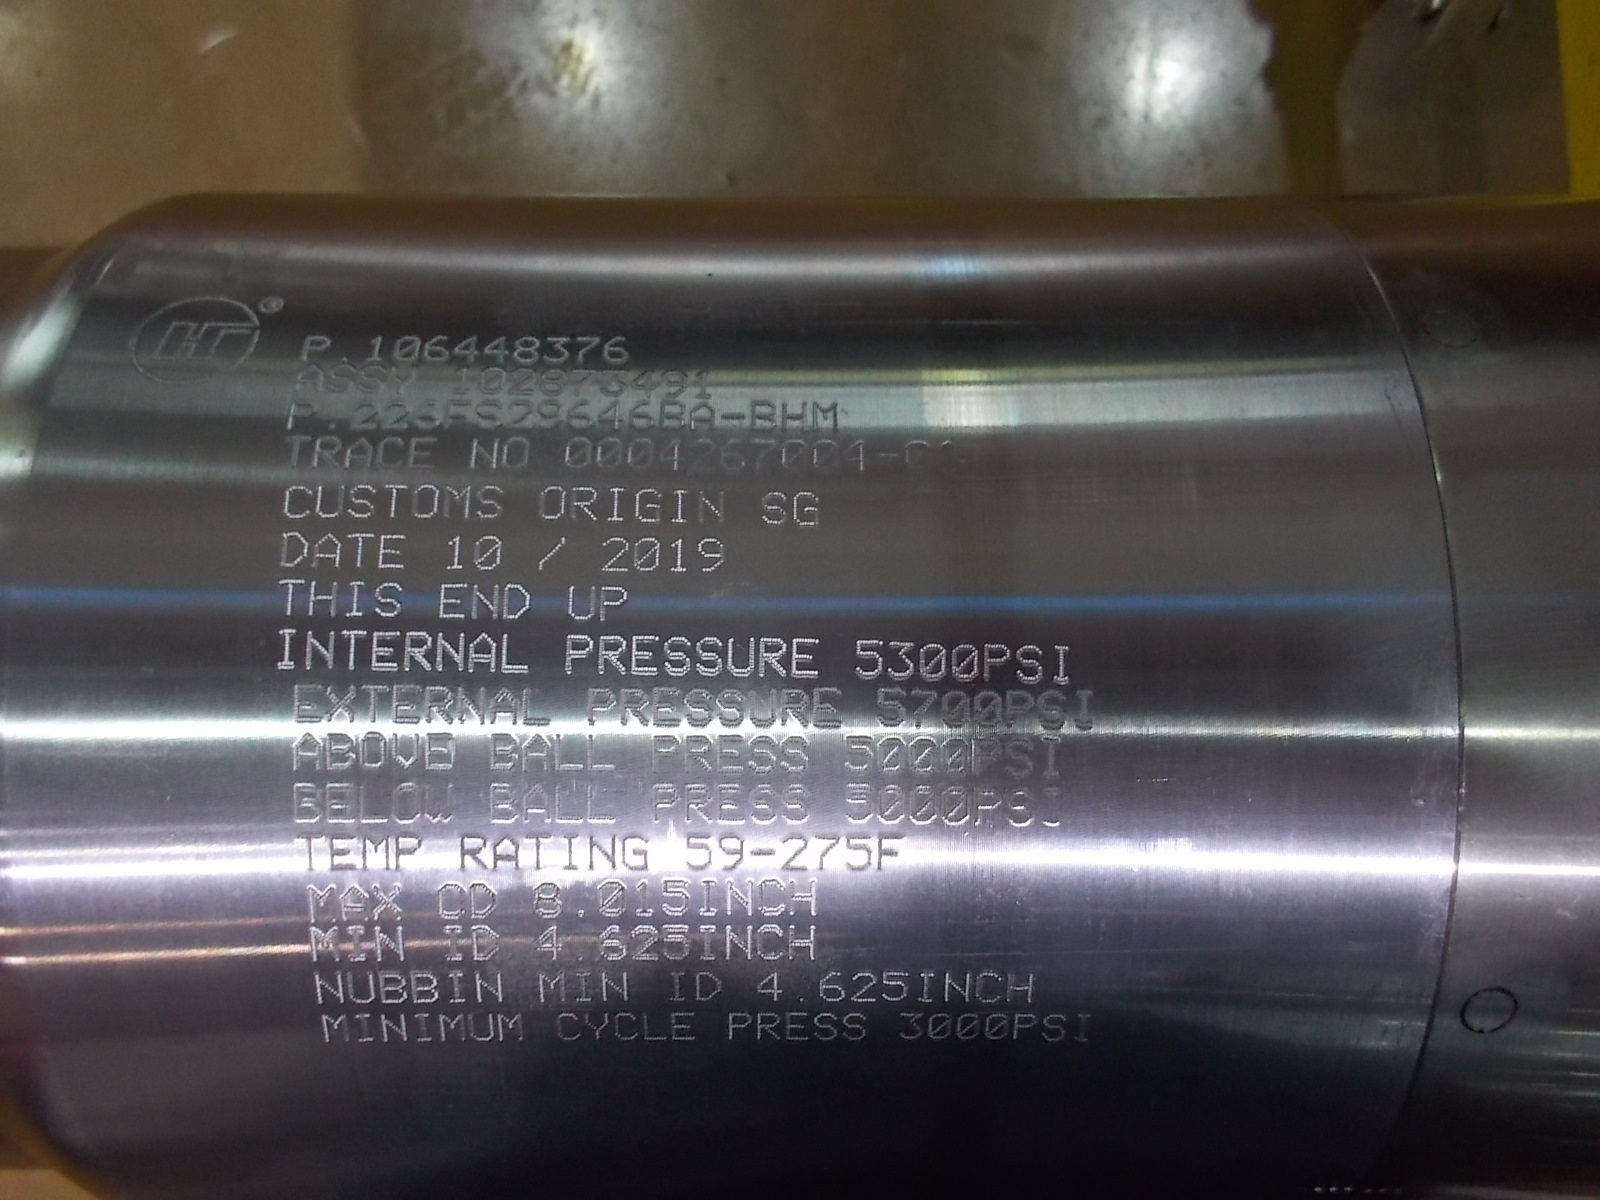character: (268, 575, 307, 626), (1003, 782, 1039, 834), (432, 577, 471, 626), (871, 683, 908, 734), (776, 832, 816, 879), (876, 827, 912, 877), (370, 921, 412, 966), (532, 532, 572, 577), (300, 626, 336, 676), (582, 683, 619, 732), (287, 776, 324, 826), (271, 529, 311, 574), (937, 782, 973, 832), (307, 575, 341, 626), (1068, 688, 1105, 736), (285, 727, 324, 771), (811, 684, 845, 735), (583, 780, 621, 826), (323, 679, 359, 726), (840, 829, 876, 877), (355, 780, 391, 828), (369, 580, 409, 621), (690, 485, 729, 528), (561, 630, 595, 679), (648, 731, 682, 780), (422, 730, 460, 774), (693, 534, 729, 580), (585, 729, 621, 774), (433, 920, 470, 966), (790, 487, 825, 533), (597, 532, 632, 579), (777, 782, 813, 828), (786, 919, 821, 966), (368, 626, 402, 674), (595, 632, 629, 679), (1044, 640, 1078, 688), (779, 730, 813, 778), (745, 730, 779, 778), (596, 966, 637, 1005), (597, 584, 635, 626), (312, 480, 349, 524), (304, 881, 340, 925), (425, 679, 457, 729), (682, 731, 714, 780), (422, 780, 457, 826), (629, 632, 663, 678), (1003, 687, 1037, 734), (970, 732, 1004, 779), (523, 827, 557, 874), (593, 920, 627, 967), (525, 881, 566, 920), (1012, 640, 1044, 688), (712, 783, 748, 826), (585, 832, 621, 875), (650, 684, 685, 729), (808, 829, 843, 874), (486, 731, 522, 775), (268, 626, 300, 676), (566, 484, 600, 529), (391, 679, 425, 725), (683, 829, 717, 875), (459, 829, 493, 875), (532, 921, 566, 967), (658, 874, 692, 919), (757, 487, 790, 533), (290, 681, 323, 727), (660, 919, 693, 966), (338, 919, 370, 966), (312, 1008, 351, 1047), (973, 782, 1003, 832), (714, 730, 745, 780), (595, 879, 632, 919), (307, 919, 338, 969), (387, 731, 423, 773), (472, 482, 508, 524), (471, 532, 506, 575), (496, 632, 532, 674), (290, 829, 325, 872), (323, 730, 358, 773), (470, 923, 505, 966), (336, 626, 368, 674), (402, 626, 433, 674), (693, 632, 724, 679), (619, 684, 650, 732), (391, 780, 422, 828), (343, 529, 377, 574), (501, 579, 535, 623), (1004, 735, 1038, 779), (678, 784, 712, 828), (325, 828, 359, 872), (486, 780, 520, 824), (357, 730, 391, 774), (722, 876, 756, 920), (790, 634, 823, 679), (627, 920, 660, 966), (1004, 968, 1043, 1006), (433, 880, 470, 920), (632, 532, 664, 579), (489, 684, 520, 731), (621, 832, 656, 874), (432, 1007, 467, 1049), (472, 966, 506, 1008), (471, 579, 501, 626), (908, 686, 939, 734), (907, 782, 937, 829), (648, 780, 678, 828), (564, 582, 597, 626), (433, 630, 466, 674), (724, 635, 757, 679), (757, 635, 790, 679), (979, 640, 1012, 684), (843, 782, 876, 826), (360, 829, 393, 874), (359, 679, 391, 725), (714, 684, 746, 730), (779, 686, 810, 731), (1037, 688, 1068, 734), (910, 734, 941, 779), (324, 780, 355, 826), (552, 780, 583, 826), (294, 328, 333, 364), (306, 969, 345, 1006), (370, 880, 406, 920), (438, 396, 472, 437), (687, 434, 721, 475), (876, 734, 910, 775), (786, 875, 820, 916), (520, 684, 551, 731), (1039, 735, 1070, 782), (692, 874, 722, 920), (746, 435, 779, 478), (438, 532, 471, 575), (915, 642, 947, 684), (876, 782, 908, 824), (753, 923, 786, 966), (630, 483, 661, 527), (311, 529, 343, 574), (378, 529, 409, 574), (457, 684, 489, 729), (746, 686, 777, 730), (853, 635, 884, 679), (939, 686, 970, 730), (393, 829, 425, 874), (520, 780, 552, 824), (664, 532, 693, 580), (664, 632, 693, 679), (666, 1008, 704, 1045), (559, 435, 593, 475), (535, 484, 566, 529), (842, 735, 876, 775), (340, 880, 370, 925), (375, 966, 409, 1006), (535, 966, 569, 1006), (809, 435, 842, 476), (409, 480, 442, 522), (552, 732, 585, 774), (494, 1008, 527, 1050), (886, 638, 915, 684), (941, 732, 970, 779), (947, 642, 979, 684), (970, 687, 1002, 730), (407, 434, 442, 471), (282, 480, 312, 524), (349, 480, 379, 524), (442, 480, 472, 524), (557, 827, 585, 875), (661, 483, 690, 528), (717, 829, 746, 875), (693, 919, 722, 964), (470, 879, 501, 920), (722, 923, 753, 964), (779, 435, 809, 478), (600, 484, 630, 527), (493, 832, 523, 875), (522, 732, 552, 775), (341, 575, 369, 621), (278, 434, 312, 471), (842, 432, 871, 476), (467, 630, 496, 674), (685, 684, 714, 729), (750, 782, 779, 826), (378, 482, 409, 522), (756, 876, 787, 916), (811, 398, 847, 434), (377, 1010, 411, 1046), (348, 397, 380, 435), (343, 434, 375, 471), (409, 968, 442, 1006), (894, 1010, 927, 1047), (593, 436, 625, 475), (952, 1008, 984, 1047), (566, 397, 596, 437), (345, 966, 375, 1006), (442, 968, 472, 1008), (1039, 784, 1063, 834), (467, 436, 501, 471), (752, 971, 787, 1005), (813, 971, 847, 1006), (937, 971, 973, 1005), (282, 400, 319, 432), (747, 398, 780, 435), (501, 435, 534, 471), (838, 1011, 871, 1047), (878, 968, 911, 1005), (472, 396, 504, 434), (375, 434, 407, 471), (626, 435, 658, 473), (847, 968, 878, 1006), (1038, 1010, 1070, 1047), (601, 332, 634, 367), (474, 363, 509, 396), (688, 400, 721, 435), (596, 398, 627, 435), (780, 398, 811, 435), (693, 971, 724, 1007), (553, 1006, 585, 1042), (723, 1007, 755, 1044), (312, 434, 343, 471), (658, 434, 687, 473), (630, 879, 658, 919), (380, 400, 412, 435), (509, 363, 539, 400), (534, 400, 564, 436), (665, 968, 693, 1007), (782, 1008, 810, 1047), (596, 369, 630, 401), (539, 364, 569, 400), (627, 400, 658, 435), (658, 400, 688, 435), (569, 966, 596, 1006), (690, 364, 719, 401), (630, 367, 658, 405), (467, 1008, 494, 1047), (511, 333, 543, 366), (543, 333, 574, 366), (504, 400, 534, 434), (973, 971, 1003, 1005), (721, 435, 746, 475), (612, 1008, 640, 1045), (810, 1011, 838, 1047), (1010, 1011, 1038, 1047), (1070, 1010, 1097, 1046), (412, 400, 438, 437), (391, 333, 422, 364), (294, 363, 325, 395), (927, 1008, 952, 1047), (755, 1008, 782, 1044), (640, 1008, 666, 1045), (984, 1011, 1010, 1047), (422, 332, 452, 363), (357, 366, 389, 395), (389, 366, 422, 395), (585, 1008, 612, 1042), (351, 1008, 375, 1047), (569, 364, 596, 400), (452, 332, 481, 363), (325, 366, 357, 395), (661, 368, 690, 400), (574, 333, 601, 367), (911, 971, 937, 1005), (483, 333, 511, 362), (411, 1007, 432, 1046), (364, 332, 387, 366), (450, 364, 474, 396), (716, 408, 747, 425), (747, 846, 777, 862), (876, 449, 900, 466), (794, 993, 809, 1007), (336, 354, 353, 367), (574, 908, 588, 921), (326, 420, 340, 432), (574, 953, 585, 963)
